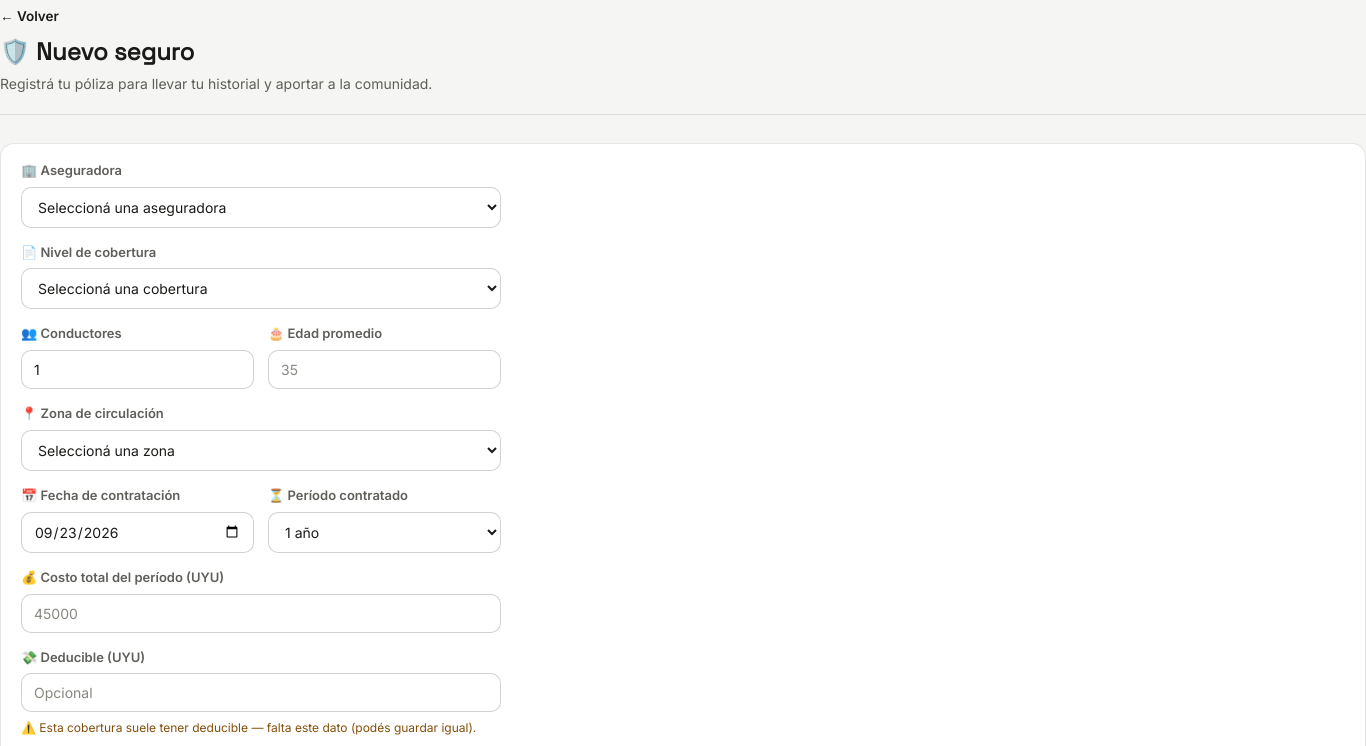
Test: NewInsuranceQuotePage › computes and shows the live per-year cost preview from total cost and period
Select "3 años" in the dropdown labelled "⏳ Período contratado": (384, 532) [268,512,501,553]
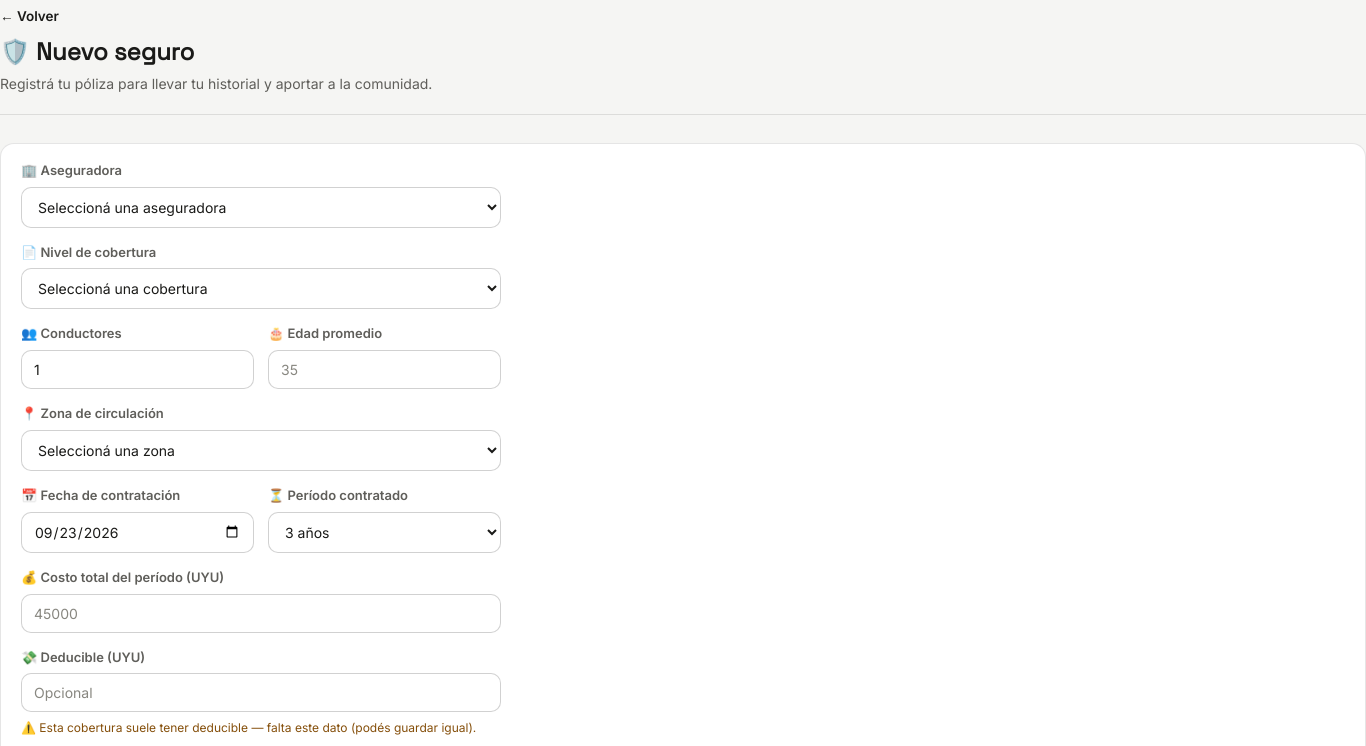
In the field labelled "💰 Costo total del período (UYU)": (261, 613) [21,594,501,633], type "150000"
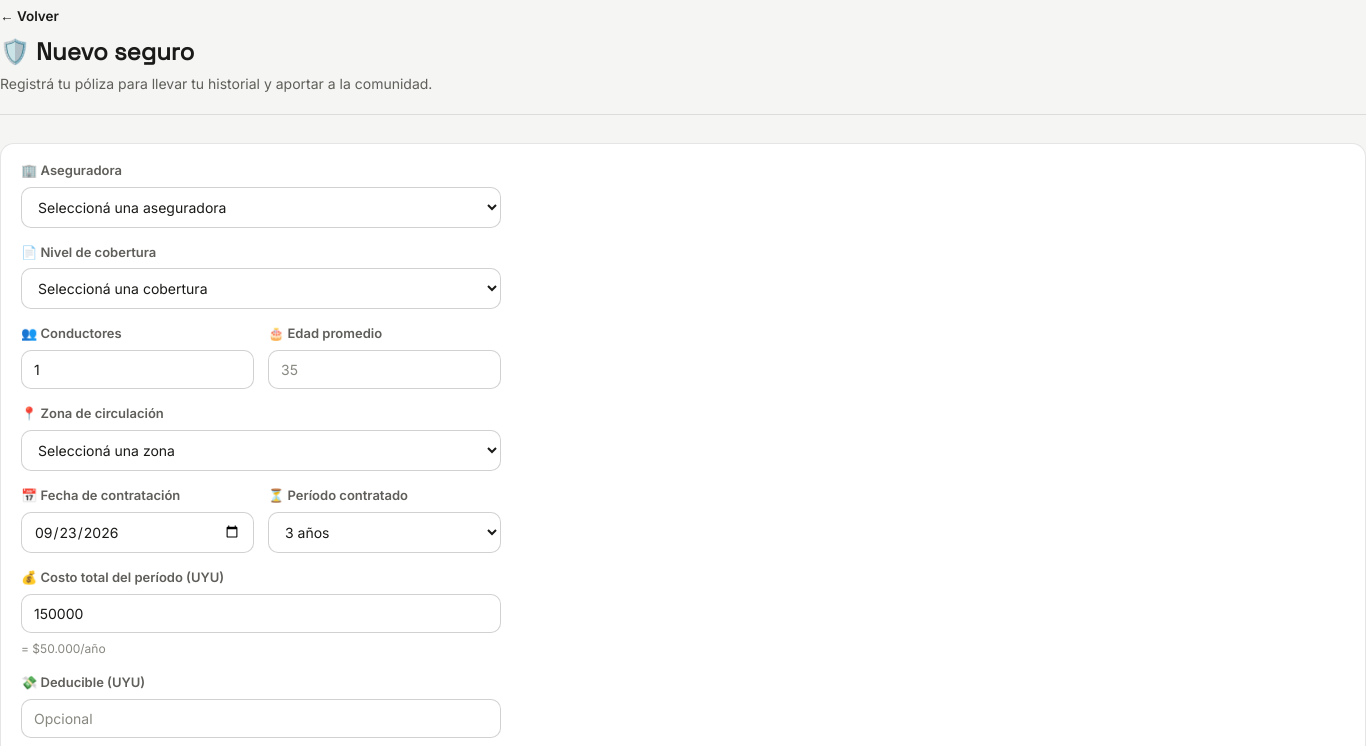
Check: the text "= $50.000/año" is shown, box [21,641,106,656]
